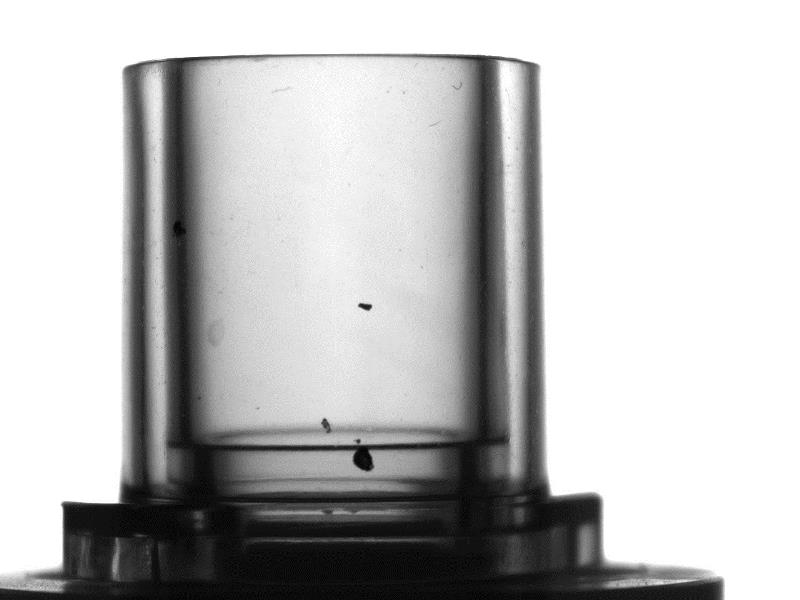blackdot: (351, 445, 376, 474), (318, 416, 332, 434), (355, 301, 376, 312), (355, 436, 367, 444)
